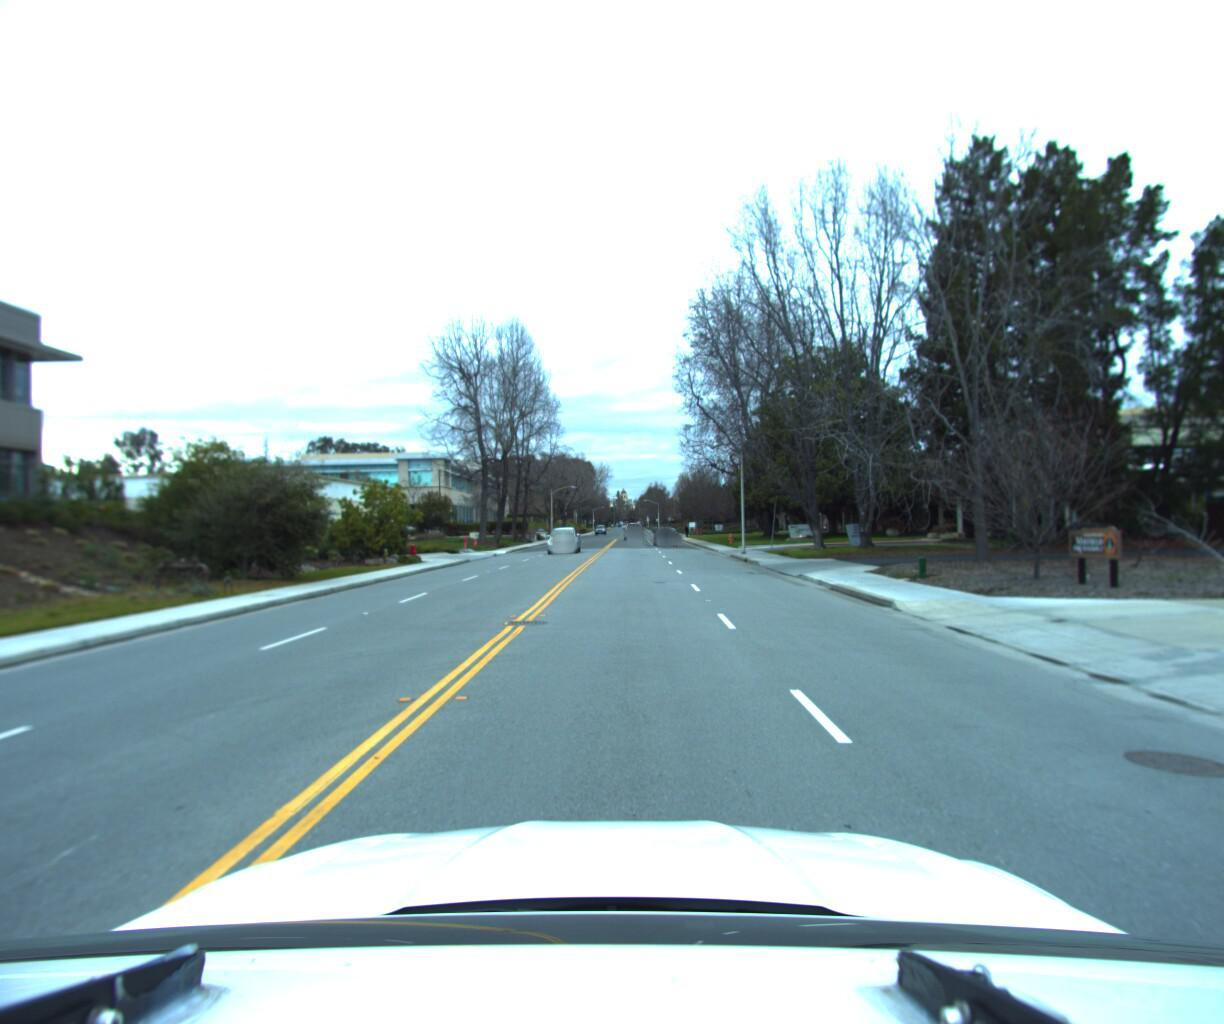car: (543, 521, 582, 548), (654, 522, 682, 543), (625, 517, 646, 535)
